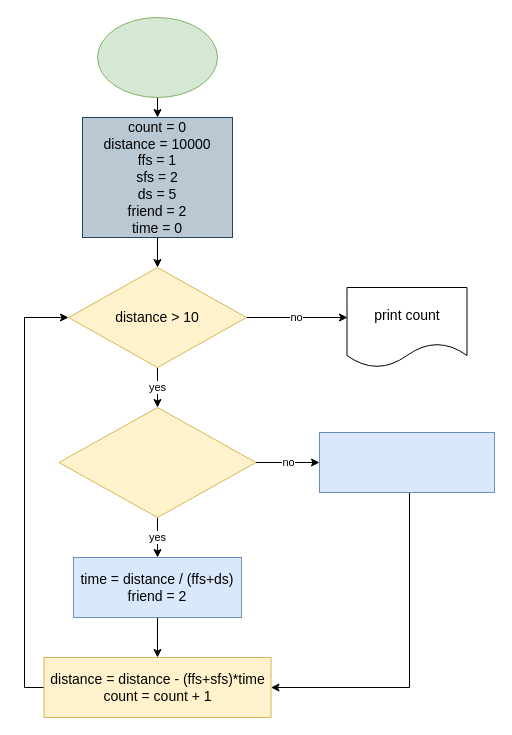
Image size: 512x735. Some labels were removed from this diagram. The shapes that lost their labels are listed below. From the top down, each one's centre as x and y in pixels, then its label:
[157,57]: start
[157,462]: friend == 1
[406,462]: time = distance / (sfs+ds) friend = 1
